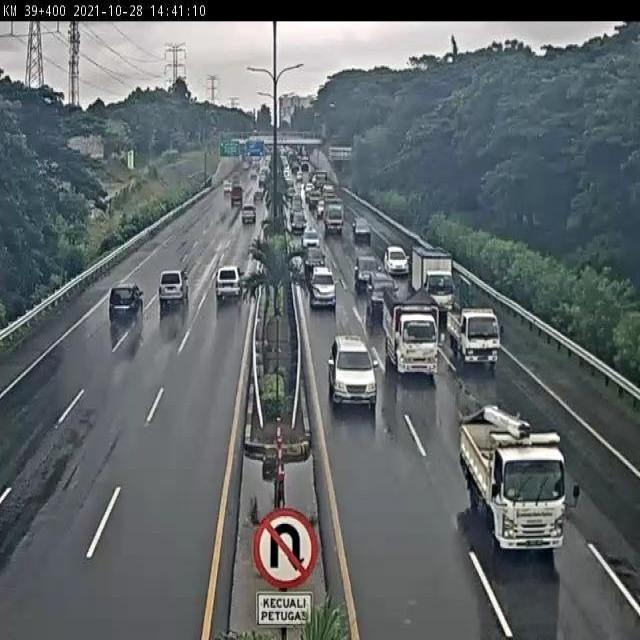car: (328, 334, 378, 406), (365, 272, 399, 319), (308, 261, 338, 311), (353, 254, 379, 290), (385, 245, 410, 276)
mid truck: (459, 405, 566, 551), (384, 282, 439, 374), (446, 302, 501, 366), (410, 246, 456, 314), (106, 284, 145, 328), (156, 270, 189, 310), (214, 263, 244, 304)
